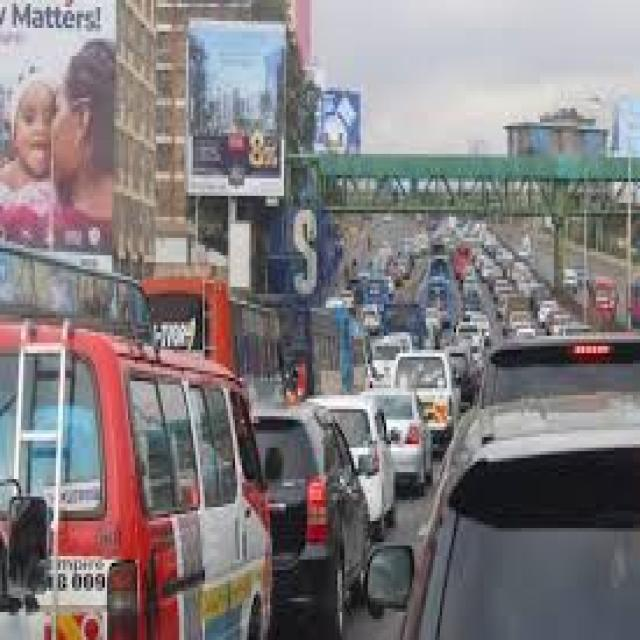bus: (8, 234, 143, 309), (286, 279, 364, 392), (152, 265, 269, 312), (412, 276, 459, 332), (590, 268, 614, 320)
matatu: (1, 315, 272, 640)
